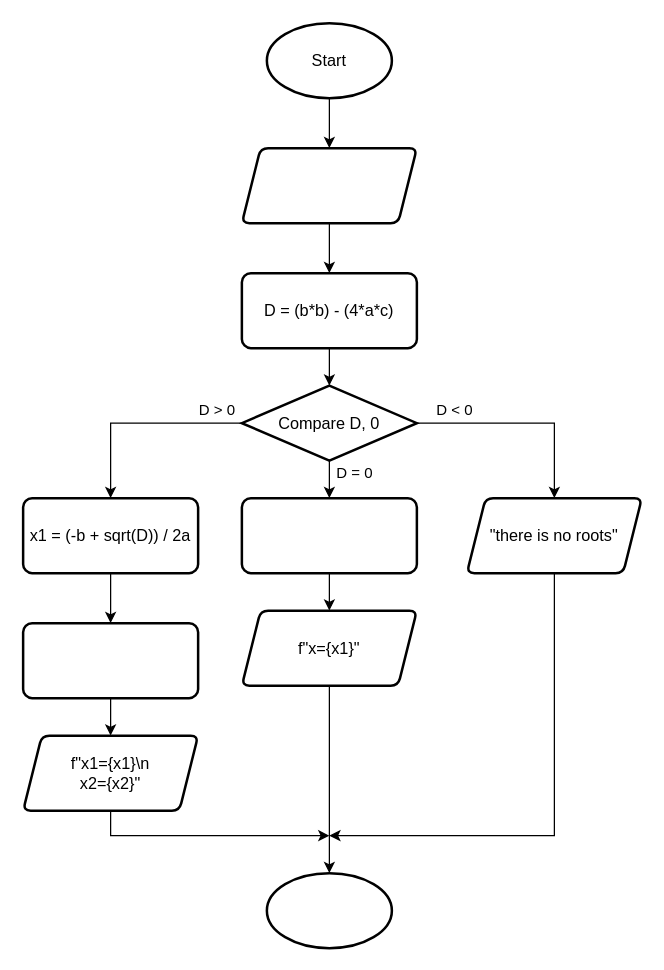
This 664x970 diagram has some shape labels left out. Each missing label, with the box of its shape:
a, b, c: (240, 146, 418, 224)
End: (265, 871, 392, 949)
x1 = (-b) / 2a: (240, 496, 418, 574)
x2 = (-b - sqrt(D)) / 2a: (21, 621, 199, 699)
